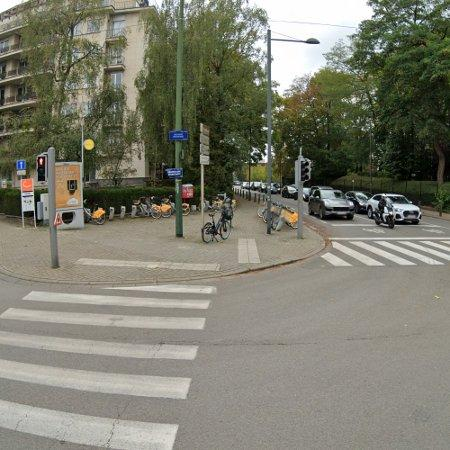crosswalks: (319, 237, 450, 268)
